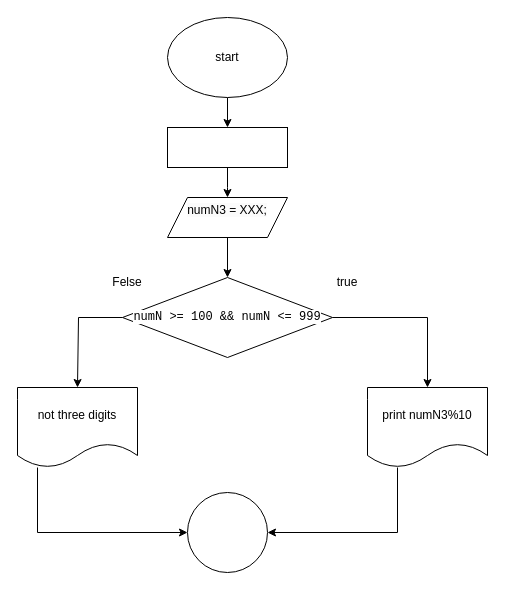
The diagram is 505 pixels wide and 590 high, and some of its shapes have lost their labels. Each missing label, with the box of its shape:
end: (186, 492, 268, 572)
numN: (166, 126, 288, 168)
